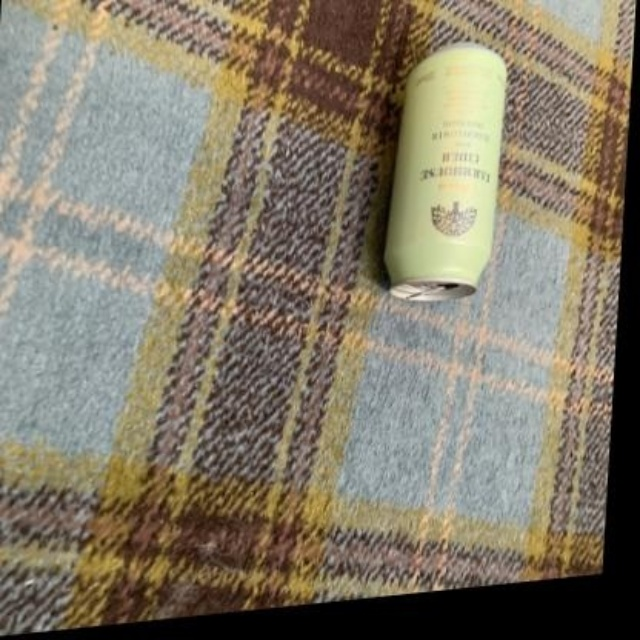trash: (385, 43, 505, 300)
